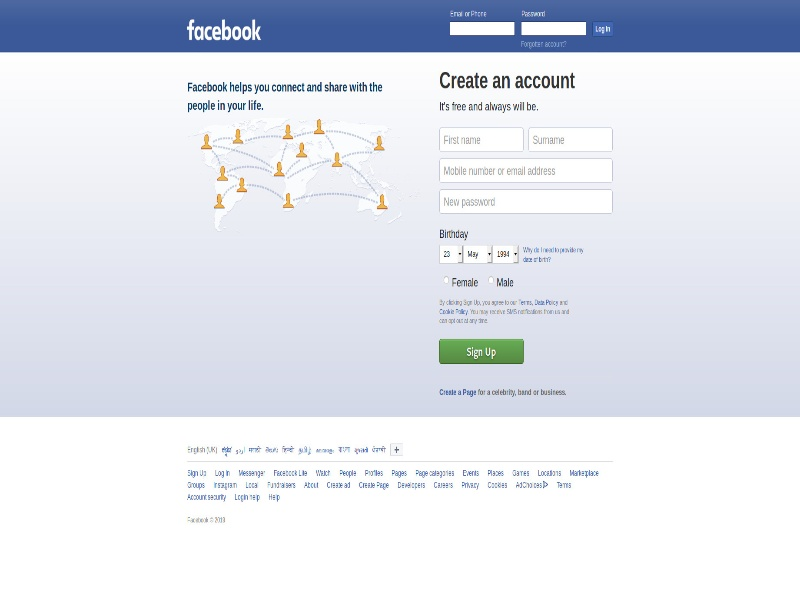button: (438, 339, 524, 364), (593, 22, 612, 34)
input: (437, 188, 614, 214), (437, 158, 614, 183), (439, 126, 525, 153), (528, 127, 612, 151), (521, 21, 587, 36), (449, 22, 515, 36)
